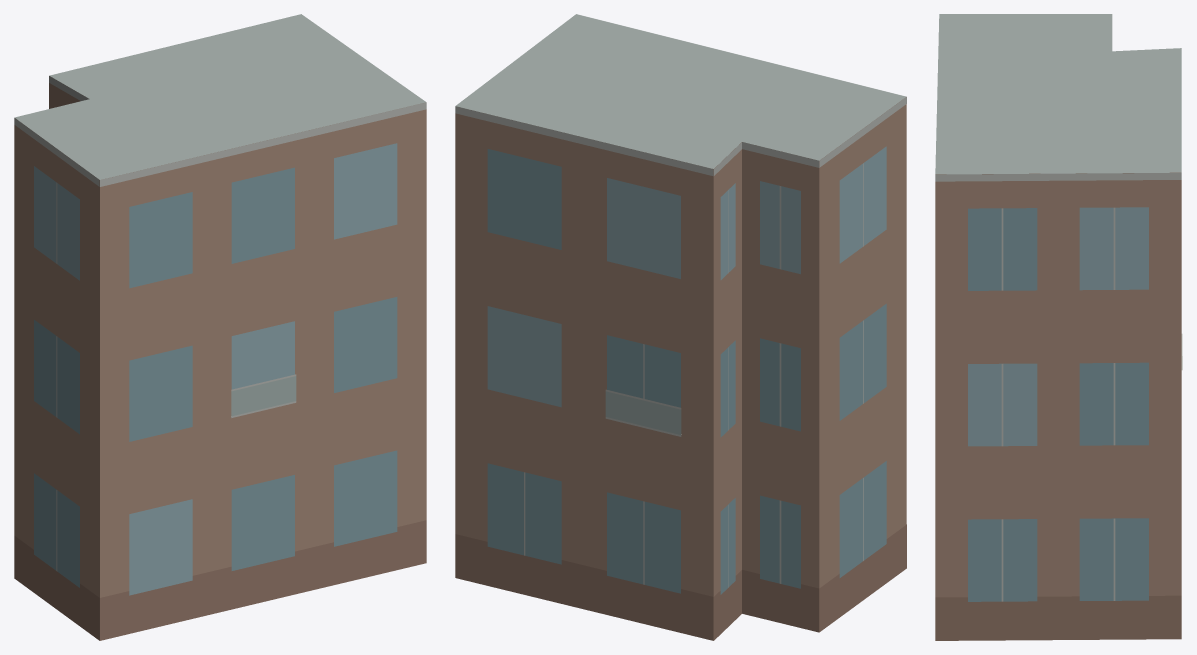
Rendered from survey-upis-32505671.glb.
3 renders of one model, left to right at view 1: azimuth 30°, elevation 25°; view 2: azimuth 150°, elevation 25°; view 3: azimuth 270°, elevation 25°, orthographic. The views are drawn at different scales.
Visible parts, largest first — view 1: survey-upis-32505671.tmp; view 2: survey-upis-32505671.tmp; view 3: survey-upis-32505671.tmp.
Boxes of the visible parts, x1,y1,x2,y2 form: survey-upis-32505671.tmp: [14, 14, 426, 640]; survey-upis-32505671.tmp: [455, 14, 906, 640]; survey-upis-32505671.tmp: [935, 14, 1182, 640].
Bounding box in the file's own units: 11.71 × 15.85 × 7.63.
